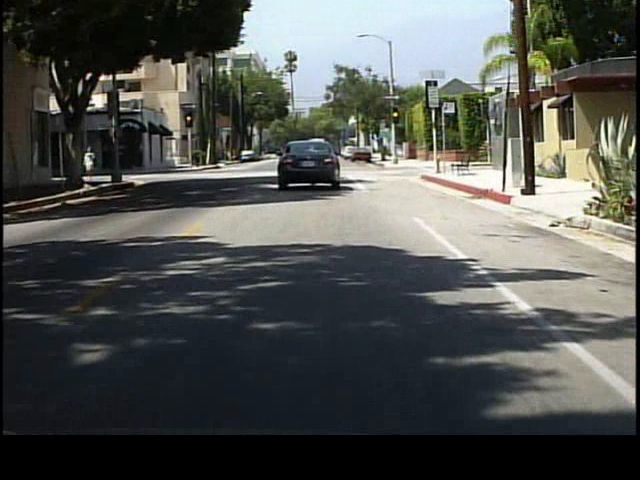person: (83, 143, 98, 185)
